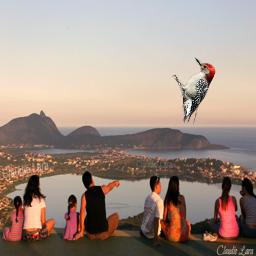Woodpecker: (170, 56, 217, 125)
